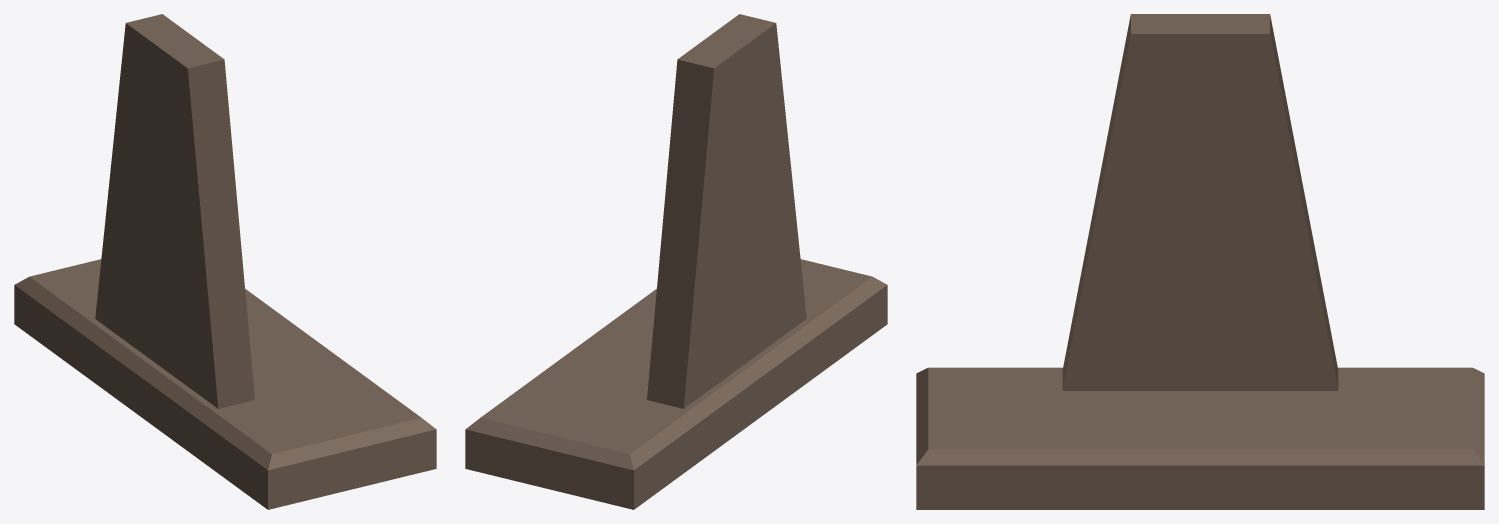
Rendered from WheelHolder.fbx.
3 views of the same model, side by side, from view 1: azimuth 30°, elevation 25°; view 2: azimuth 150°, elevation 25°; view 3: azimuth 270°, elevation 25° (orthographic). The views are drawn at different scales.
Parts seen in each view (by area): view 1: pCube47, pCube40; view 2: pCube47, pCube40; view 3: pCube47, pCube40.
Boxes of the visible parts, <box> form: pCube47: <box>95,14,254,408</box>; pCube40: <box>14,259,436,509</box>; pCube47: <box>647,14,806,408</box>; pCube40: <box>465,259,887,509</box>; pCube47: <box>1062,14,1338,390</box>; pCube40: <box>916,367,1484,509</box>.
Bounding box in the file's own units: 22.46 × 46.85 × 58.57.
